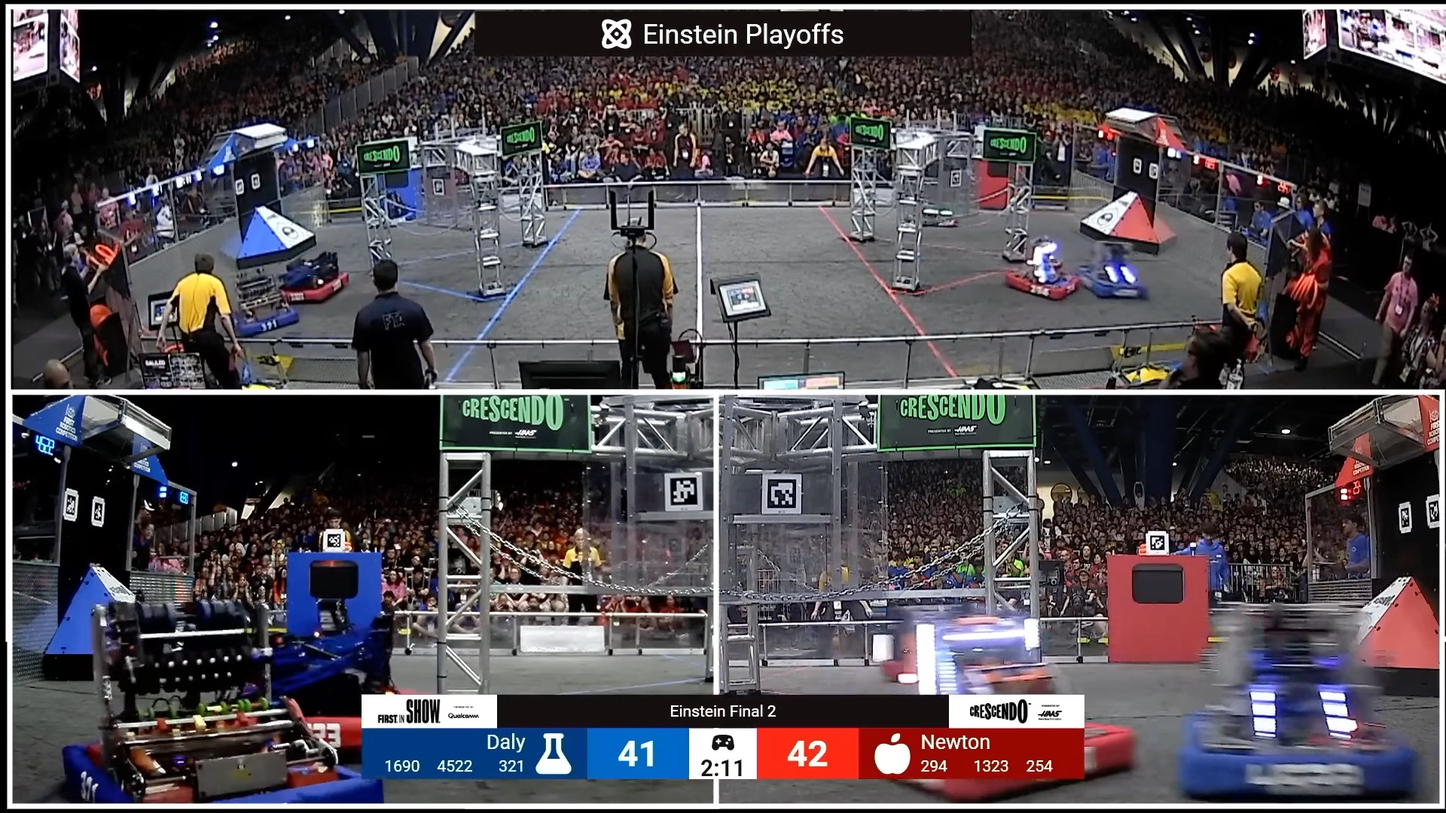bumpers: (852, 718, 1135, 795), (1179, 716, 1427, 802), (51, 741, 393, 803), (211, 695, 431, 759), (999, 267, 1090, 305), (1080, 261, 1155, 306), (212, 303, 307, 338), (279, 272, 352, 299), (908, 213, 961, 227)
